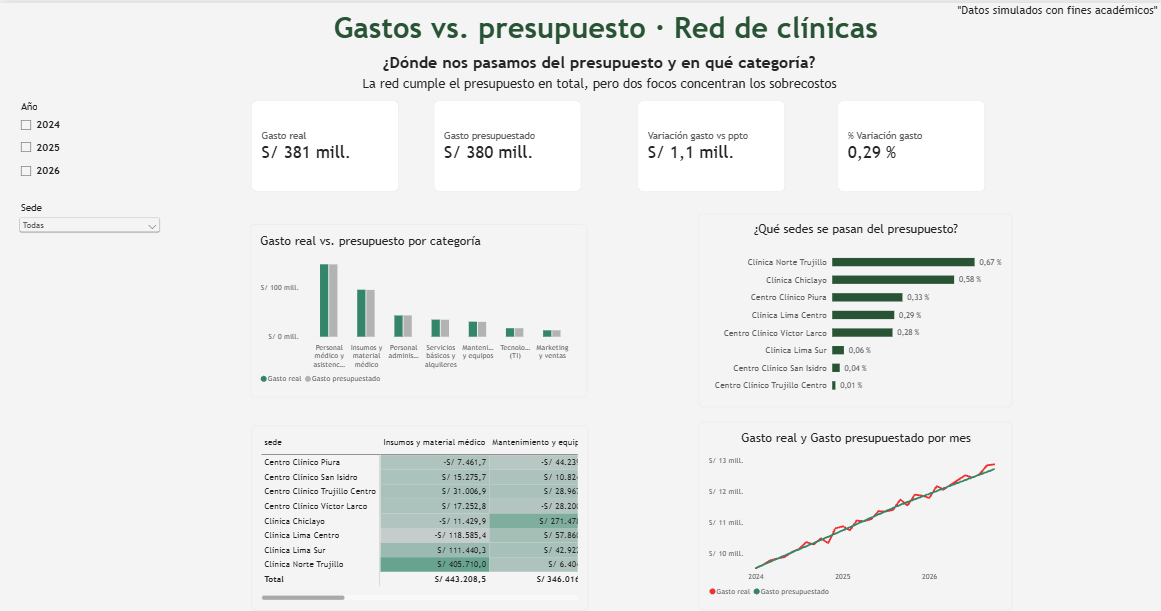

Layout of this report page (visuals, bound fields, positions):
{"tool":"powerbi","page":{"name":"Gastos vs. presupuesto","canvas":[1920,1080],"ordinal":2},"visuals":[{"type":"textbox","box":[630,82.5,840,37.5],"z":0},{"type":"textbox","box":[550,12,952,70],"z":1000},{"type":"textbox","box":[1576,0,344,62],"z":2000},{"type":"slicer","fields":{"Values":["dim_fecha.anio"]},"box":[27.5,160,242.5,150],"z":3000},{"type":"slicer","fields":{"Values":["dim_sede.sede"]},"box":[27.5,327.5,242,76],"z":4000},{"type":"cardVisual","fields":{"Data":["Medidas1.Variación gasto vs ppto"]},"box":[1050,160,243,150],"z":5000},{"type":"cardVisual","fields":{"Data":["Medidas1.% Variación gasto"]},"box":[1380,160,243,150],"z":7000},{"type":"cardVisual","fields":{"Data":["Medidas1.Gasto presupuestado"]},"box":[715,160,243,150],"z":8000},{"type":"lineChart","fields":{"Category":["dim_fecha.mes"],"Y":["Medidas1.Gasto real","Medidas1.Gasto presupuestado"]},"box":[1150,690,516.7,310],"z":9000},{"type":"barChart","title":"¿Qué sedes se pasan del presupuesto?","fields":{"Category":["dim_sede.sede"],"Y":["Medidas1.% Variación gasto"]},"box":[1150,346.7,516,320],"z":10000},{"type":"clusteredColumnChart","title":"Gasto real vs. presupuesto por categoría","fields":{"Category":["dim_categoria_gasto.categoria_gasto"],"Y":["Medidas1.Gasto real","Medidas1.Gasto presupuestado"]},"box":[412.5,365,555,285],"z":11000},{"type":"pivotTable","fields":{"Columns":["dim_categoria_gasto.categoria_gasto"],"Rows":["dim_sede.sede"],"Values":["Medidas1.Variación gasto vs ppto"]},"box":[413.3,695,555,305],"z":12000},{"type":"textbox","box":[597.5,120,792.5,82.5],"z":13000},{"type":"cardVisual","fields":{"Data":["Medidas1.Gasto real"]},"box":[412.8,161.5,243,150],"z":13001}]}

Visuals, with their boxes on the page's 1920x1080 design canvas (x1, y1, x2, y2). These are canvas units, not pixel positions in the 1161x611 screenshot, which may show the page scaled, cropped or inside an application window:
textbox: bbox(630, 82, 1470, 120)
textbox: bbox(550, 12, 1502, 82)
textbox: bbox(1576, 0, 1920, 62)
slicer - dim_fecha.anio: bbox(28, 160, 270, 310)
slicer - dim_sede.sede: bbox(28, 328, 270, 404)
cardVisual - Medidas1.Variación gasto vs ppto: bbox(1050, 160, 1293, 310)
cardVisual - Medidas1.% Variación gasto: bbox(1380, 160, 1623, 310)
cardVisual - Medidas1.Gasto presupuestado: bbox(715, 160, 958, 310)
lineChart - dim_fecha.mes x Medidas1.Gasto real: bbox(1150, 690, 1667, 1000)
"¿Qué sedes se pasan del presupuesto?" barChart: bbox(1150, 347, 1666, 667)
"Gasto real vs. presupuesto por categoría" clusteredColumnChart: bbox(412, 365, 968, 650)
pivotTable - dim_categoria_gasto.categoria_gasto x dim_sede.sede: bbox(413, 695, 968, 1000)
textbox: bbox(598, 120, 1390, 202)
cardVisual - Medidas1.Gasto real: bbox(413, 162, 656, 312)
